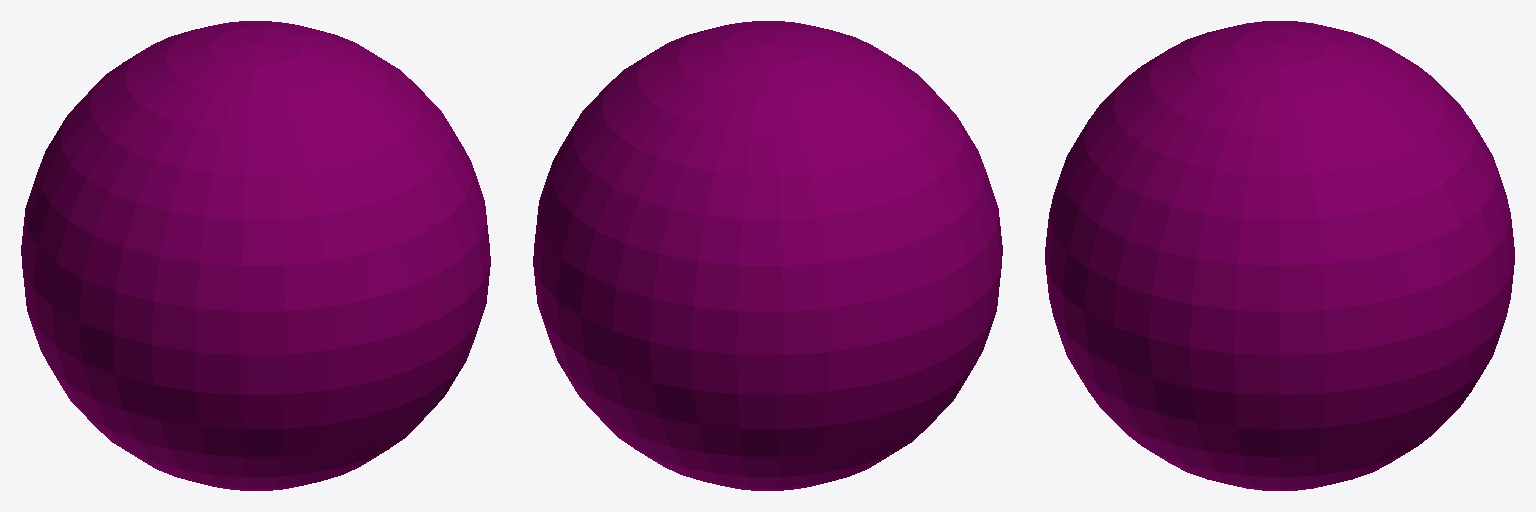
File: king.obj
The picture shows the model from 3 angles: view 1: azimuth 30°, elevation 25°; view 2: azimuth 150°, elevation 25°; view 3: azimuth 270°, elevation 25°; orthographic projection.
Parts seen in each view (by area): view 1: Sphere001; view 2: Sphere001; view 3: Sphere001.
Boxes of the visible parts, x1,y1,x2,y2 form: Sphere001: [21, 21, 490, 490]; Sphere001: [533, 21, 1002, 490]; Sphere001: [1045, 21, 1514, 490].
Bounding box in the file's own units: 44.72 × 44.72 × 44.72.